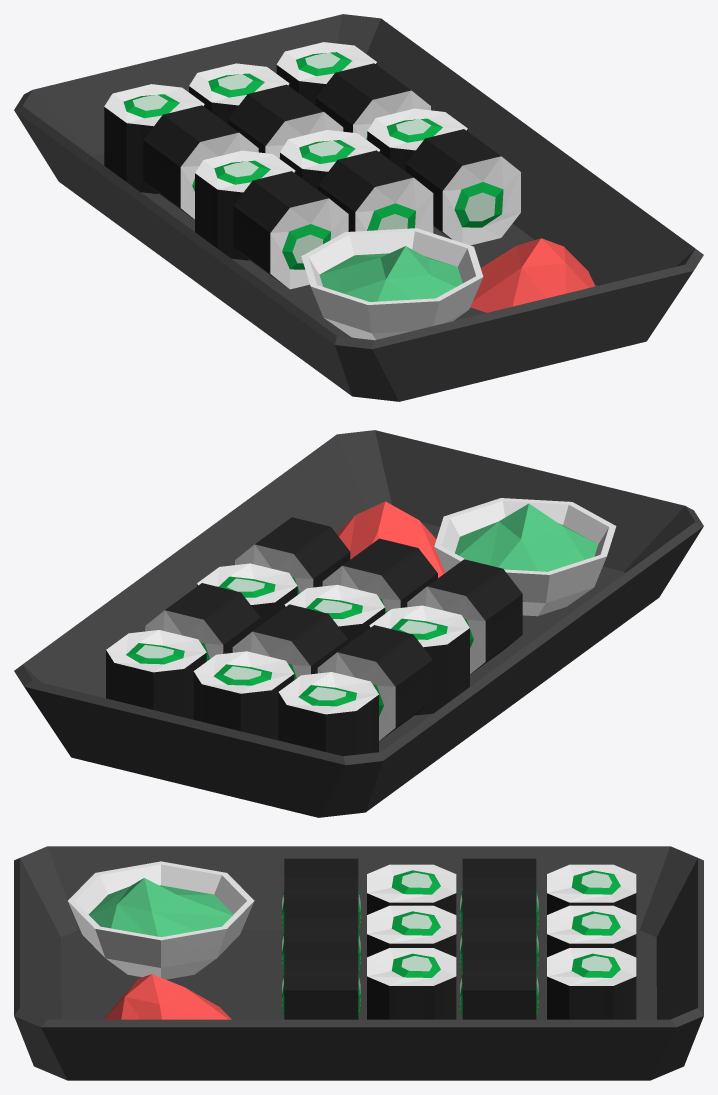
The model's file is sushi_dish_001.obj.
The picture shows the model from 3 angles, top to bottom: view 1: azimuth 30°, elevation 25°; view 2: azimuth 150°, elevation 25°; view 3: azimuth 270°, elevation 25°; orthographic projection.
Parts seen in each view (by area): view 1: sushi_dish_001; view 2: sushi_dish_001; view 3: sushi_dish_001.
Part boxes in pixels (x1,y1,x2,y2): sushi_dish_001: (14, 14, 703, 401); sushi_dish_001: (14, 430, 703, 817); sushi_dish_001: (14, 846, 703, 1080).
Bounding box in the file's own units: 0.1234 × 0.0319 × 0.2017.
